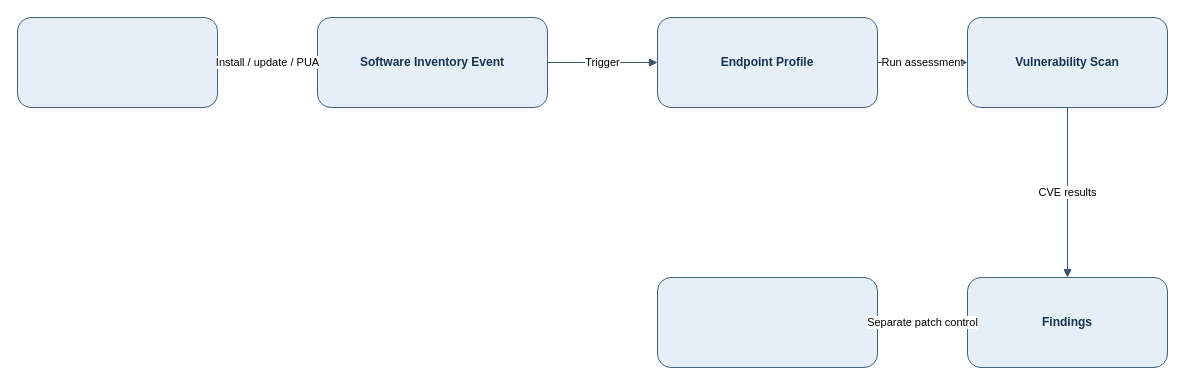
Some shapes in this 1185 by 385 pixel diagram are drawn without their labels. Here are the shapes that lost their labels. From the top down, the centre of each, then its label:
the point at 117,62: Endpoint
the point at 767,322: Optional Patch
